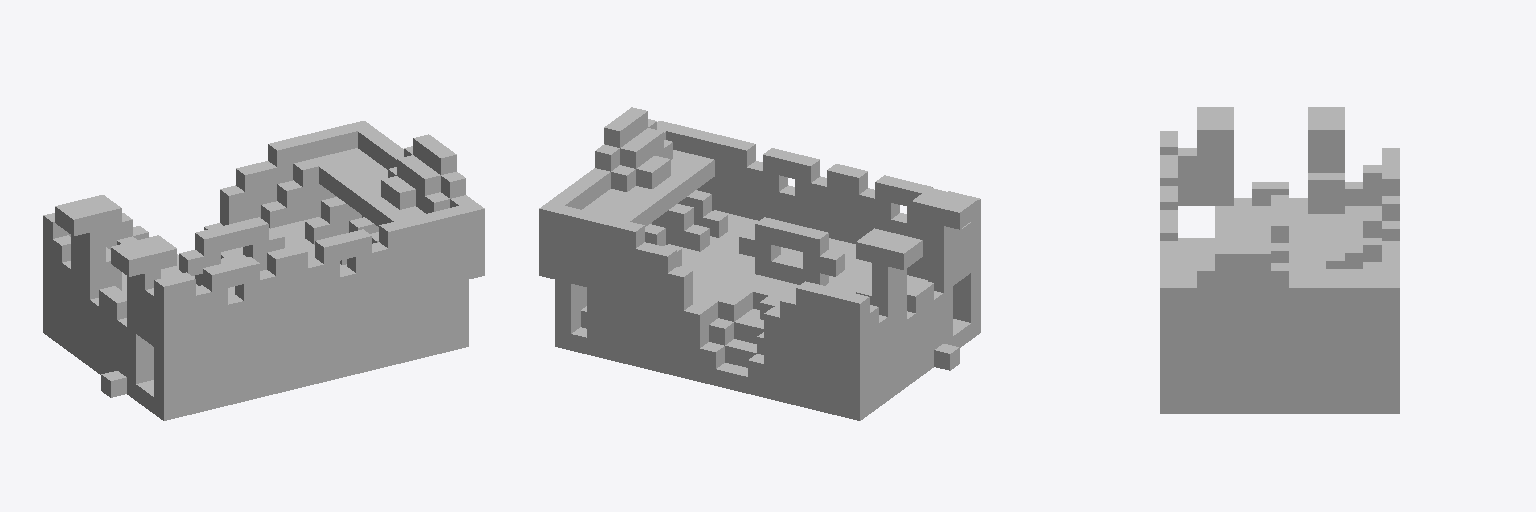
The model's file is barracks_3.obj.
3 renders of one model, left to right at view 1: azimuth 30°, elevation 25°; view 2: azimuth 150°, elevation 25°; view 3: azimuth 270°, elevation 25°, orthographic.
Visible parts, largest first — view 1: barracks_3; view 2: barracks_3; view 3: barracks_3.
Part boxes in pixels (left/top/right/bottom): barracks_3: left=43, top=121, right=484, bottom=420; barracks_3: left=539, top=107, right=980, bottom=420; barracks_3: left=1160, top=107, right=1399, bottom=413.
Size of the model in its own units: 21 by 10 by 13.